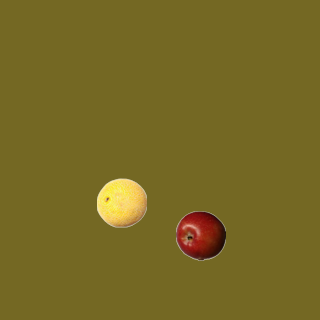Apple Braeburn: (175, 210, 225, 260)
Cantaloupe 1: (96, 177, 146, 227)
